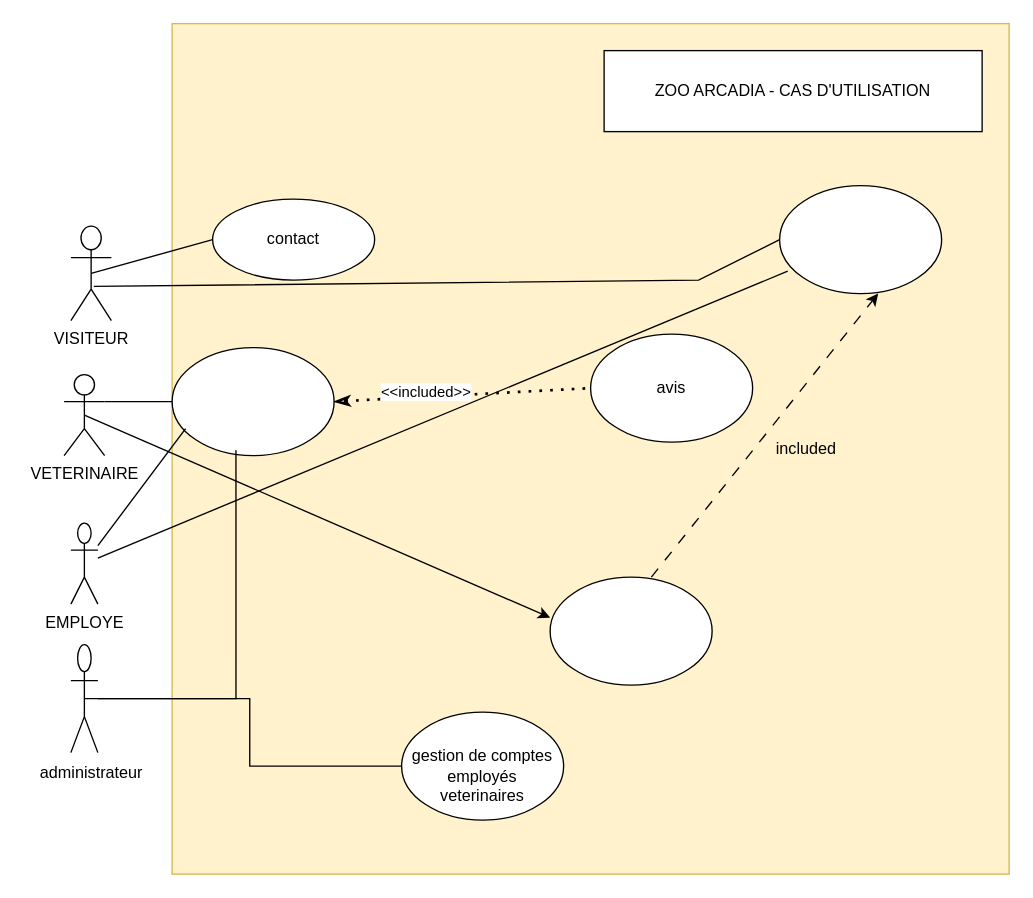
Some shapes in this 1033 by 898 pixel diagram are drawn without their labels. Each missing label, with the centre of its shape:
"animaux" goes at point (860, 239).
"connexion" goes at point (252, 401).
"habitations" goes at point (630, 630).
